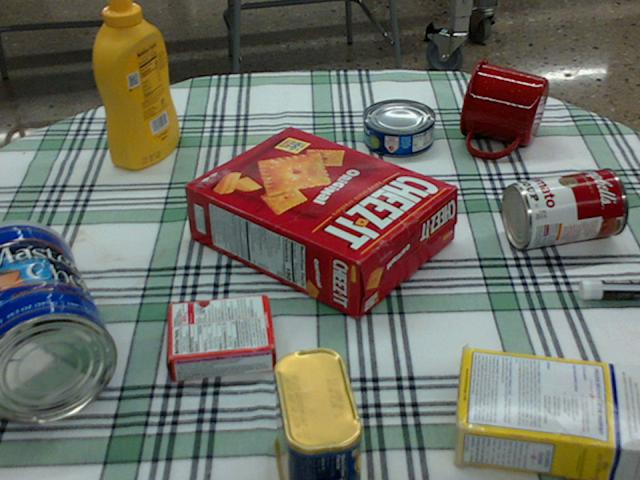cracker_box: (183, 125, 455, 318)
gelatin_box: (166, 295, 277, 377)
large_marker: (579, 278, 639, 299)
master_chef_can: (0, 220, 117, 422)
mug: (459, 58, 547, 157)
mustard_bottle: (94, 0, 178, 169)
potted_meat_can: (271, 345, 361, 479)
sugar_box: (451, 350, 639, 479)
tomato_soup_can: (501, 168, 626, 247)
tuna_fish_can: (362, 99, 435, 156)
